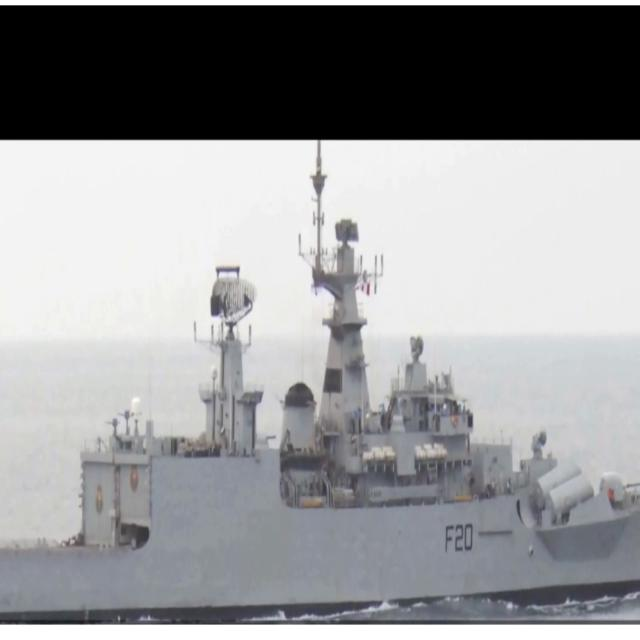OCR: (440, 518, 476, 559)
